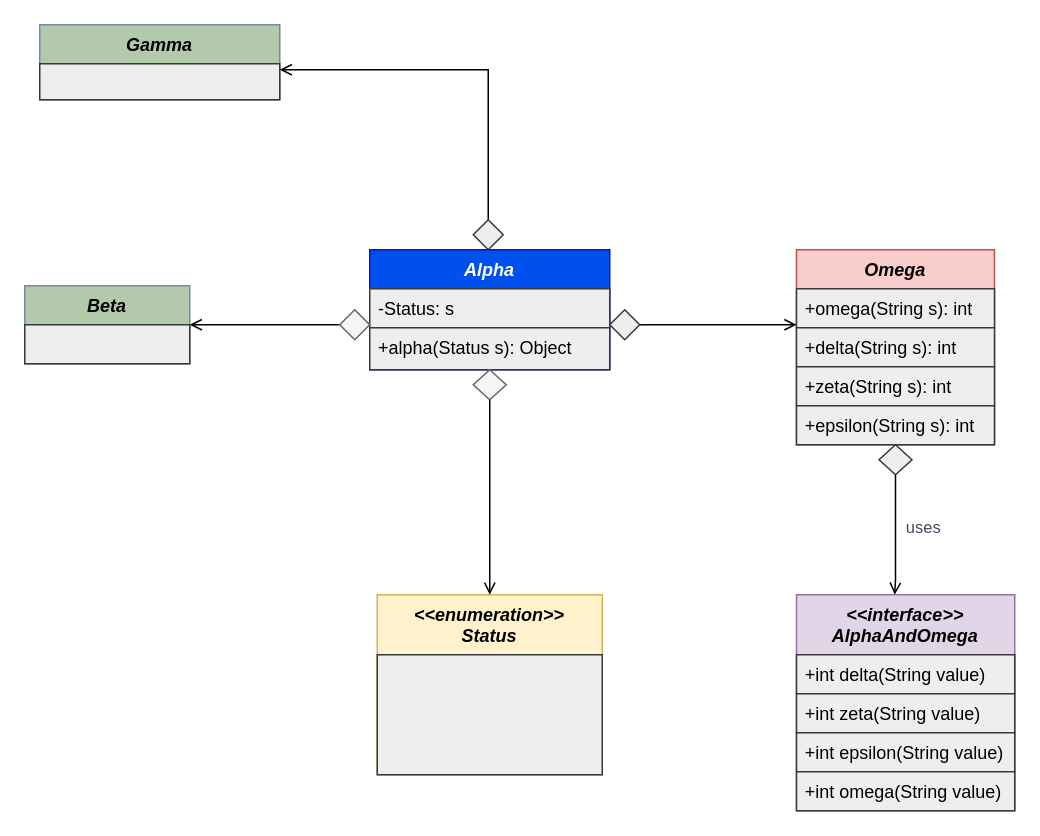
Some shapes in this 1040 by 836 pixel diagram are drawn without their labels. The shapes that lost their labels are listed below. From the top down, each one's box as (x1, y1, x2, y2) in pixels, then its label:
(38, 62, 280, 100): +gamma(): String
(23, 323, 190, 364): +beta(): String
(376, 653, 602, 775): Slight Low Medium High Extreme
